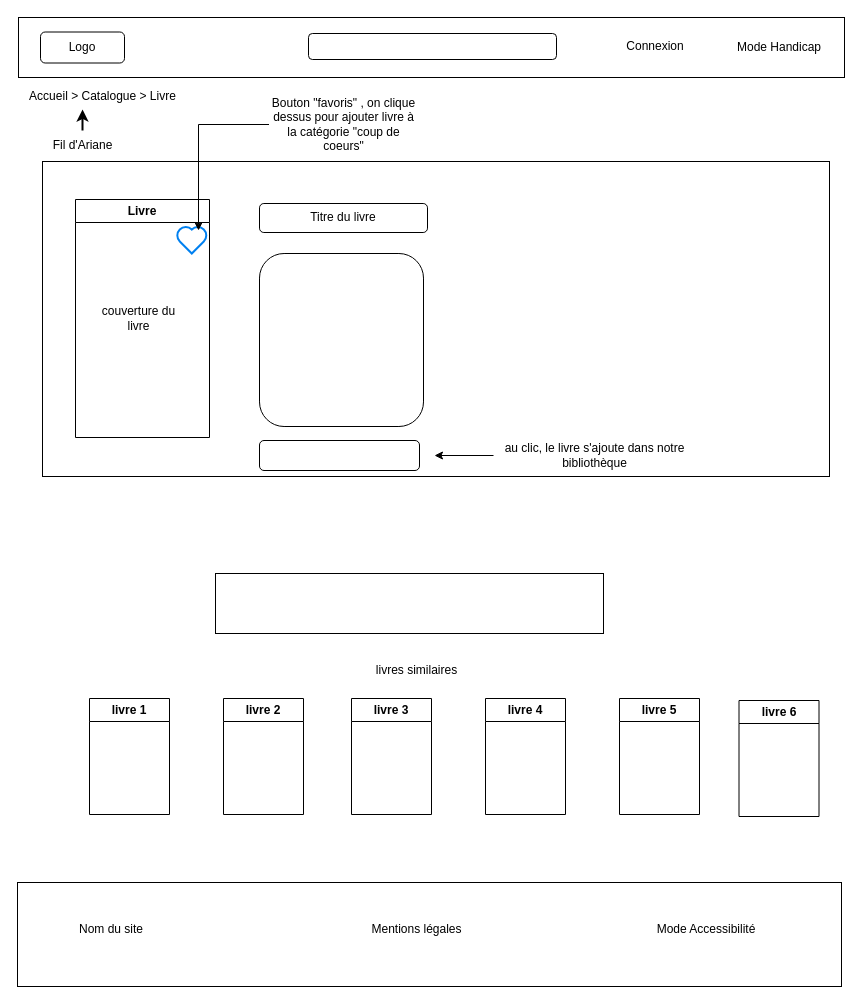
The diagram is 862 pixels wide and 1004 high, and some of its shapes have lost their labels. The box of each missing label's shape, as (x1, y1, x2, y2) in pixels:
Ajouter à la bibliothèque: (258, 440, 420, 470)
Informations du livre: (258, 252, 424, 426)
Moteur de recherche: (308, 32, 556, 60)
Résumé du Livre: (214, 572, 604, 634)
